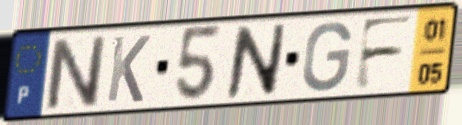5: (172, 23, 225, 107)
F: (351, 13, 417, 93)
G: (300, 19, 355, 95)
K: (103, 33, 153, 105)
N: (223, 21, 289, 101), (44, 34, 108, 113)
